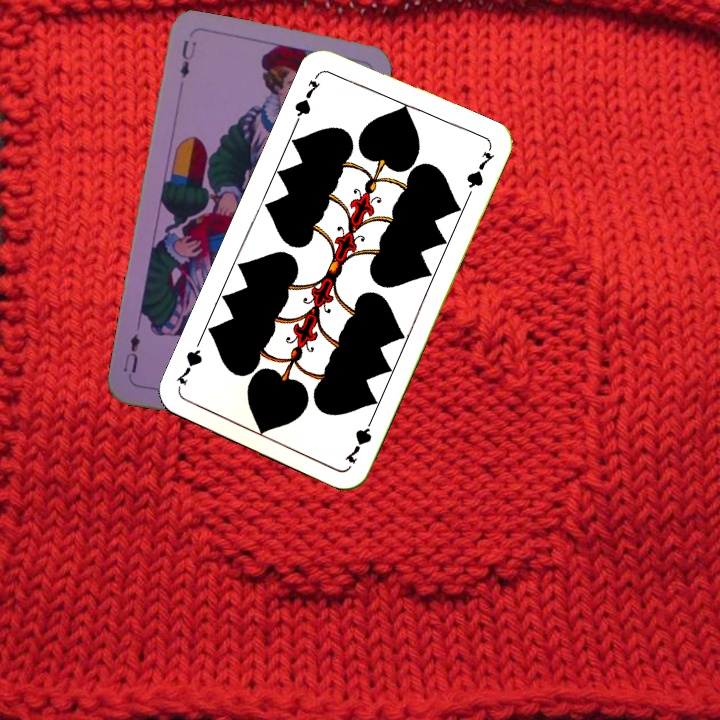EU: (176, 36, 199, 81)
G7: (340, 411, 378, 466), (290, 70, 323, 126)
